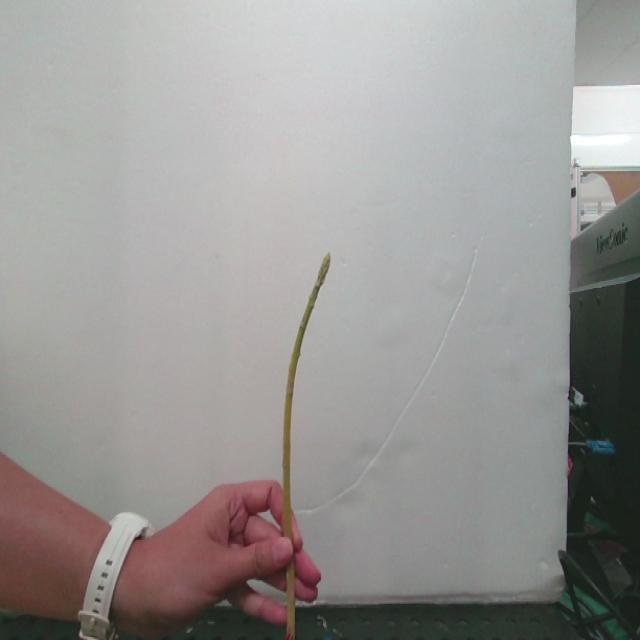aspargus: (280, 256, 334, 546)
